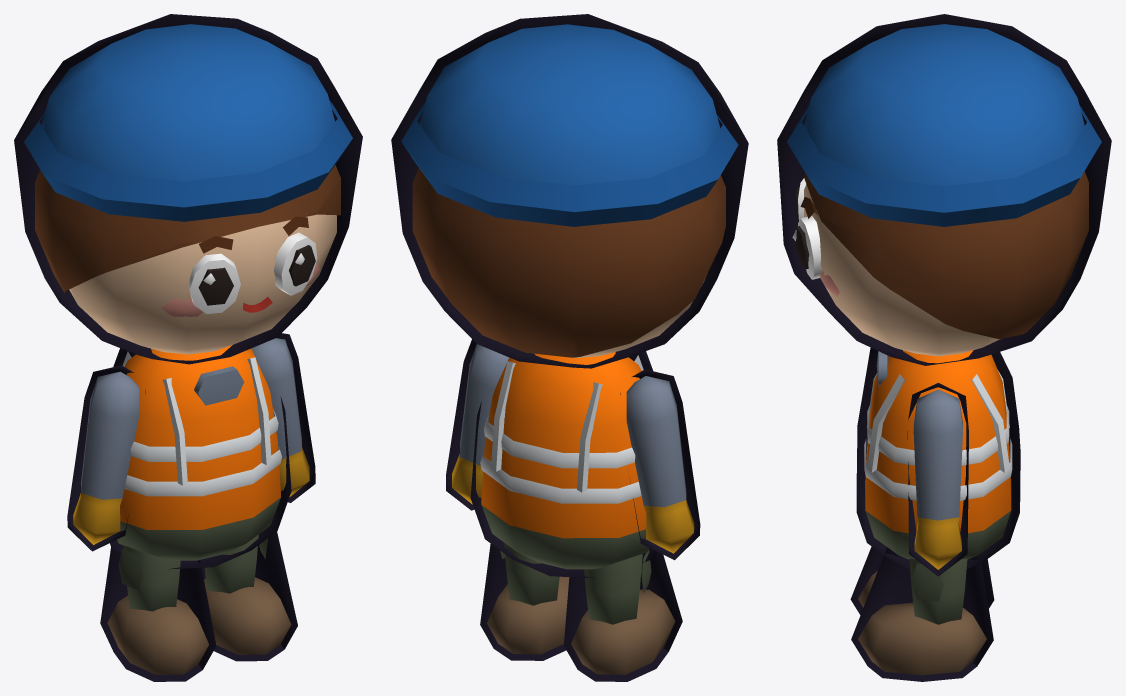
File: figur_packer.glb
3 renders of one model, left to right at view 1: azimuth 30°, elevation 25°; view 2: azimuth 150°, elevation 25°; view 3: azimuth 270°, elevation 25°, orthographic. The views are drawn at different scales.
Parts seen in each view (by area): view 1: kopf, koerper, bein_r, arm_r, bein_l, arm_l; view 2: kopf, koerper, bein_r, arm_r, bein_l, arm_l; view 3: kopf, koerper, bein_l, arm_l, bein_r.
Boxes of the visible parts, x1,y1,x2,y2 form: kopf: (14, 14, 362, 364); koerper: (110, 345, 291, 569); bein_r: (100, 545, 216, 681); arm_r: (67, 365, 145, 551); bein_l: (201, 517, 297, 661); arm_l: (252, 333, 315, 502); kopf: (391, 14, 748, 368); koerper: (470, 351, 656, 578); bein_r: (564, 549, 682, 681); arm_r: (620, 369, 700, 560); bein_l: (480, 543, 569, 660); arm_l: (446, 339, 508, 510); kopf: (777, 14, 1111, 365); koerper: (856, 348, 1020, 569); bein_l: (851, 547, 993, 681); arm_l: (907, 383, 968, 576); bein_r: (850, 546, 994, 614).
Size of the model in its own units: 0.6722 by 1.26 by 0.634.
